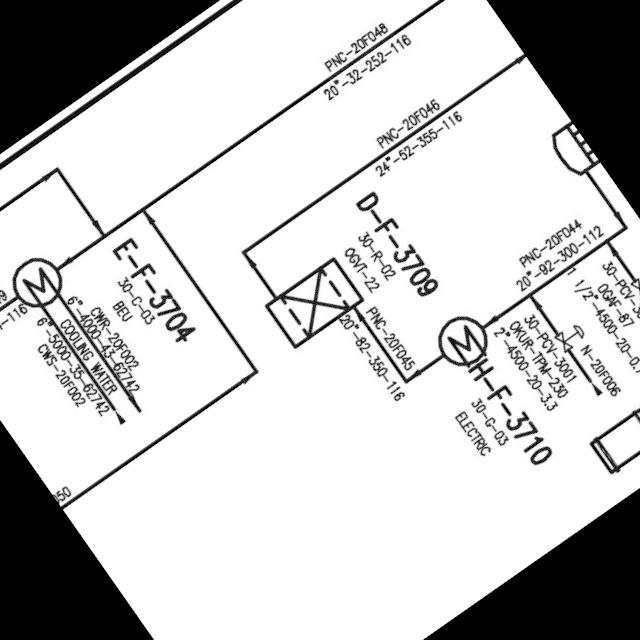D2: (581, 397, 640, 484)
D3: (257, 248, 371, 355)
HE: (422, 300, 500, 376), (0, 243, 74, 318)
